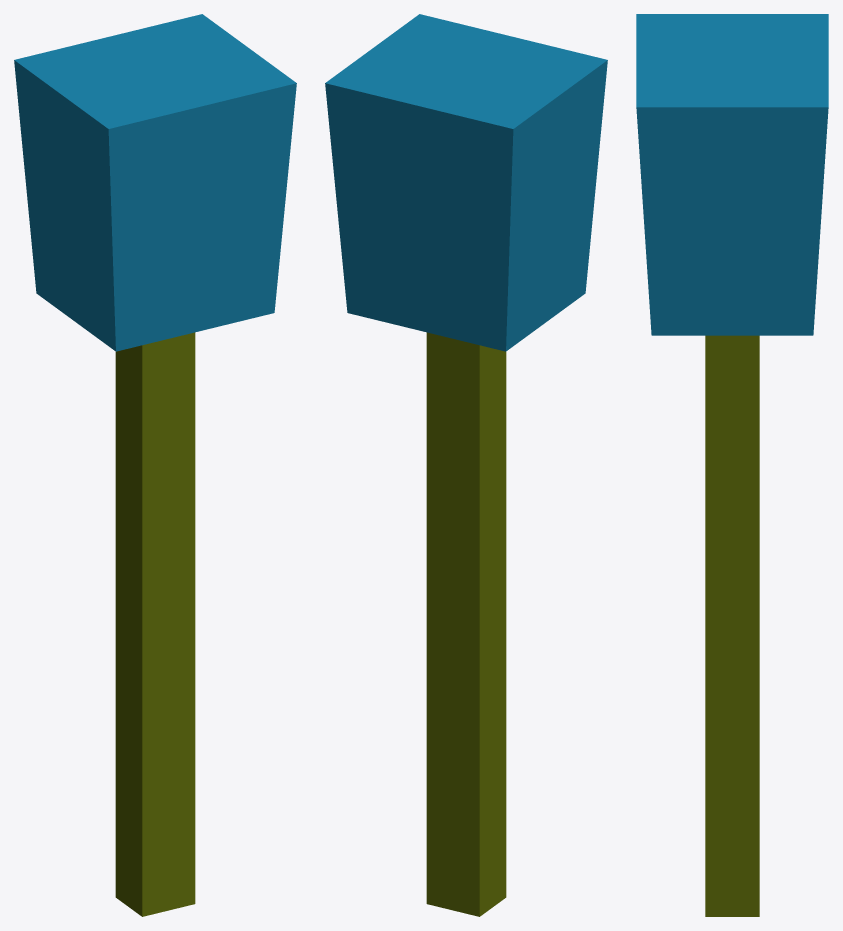
The model's file is CityFlower_06.fbx.
3 views of the same model, side by side, from view 1: azimuth 30°, elevation 25°; view 2: azimuth 150°, elevation 25°; view 3: azimuth 270°, elevation 25° (orthographic).
Parts seen in each view (by area): view 1: CityFlower_06; view 2: CityFlower_06; view 3: CityFlower_06.
Part boxes in pixels (x1,y1,x2,y2): CityFlower_06: [14, 14, 296, 916]; CityFlower_06: [325, 14, 607, 916]; CityFlower_06: [636, 14, 828, 916].
Size of the model in its own units: 0.0199 by 0.0838 by 0.0173.
